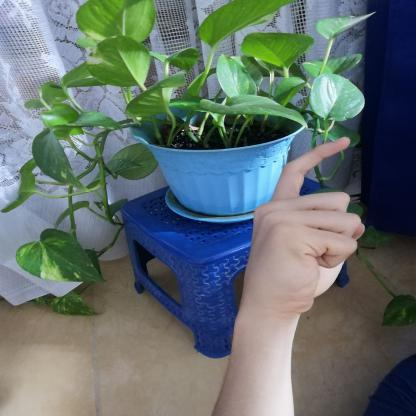RAA: (234, 128, 374, 319)
